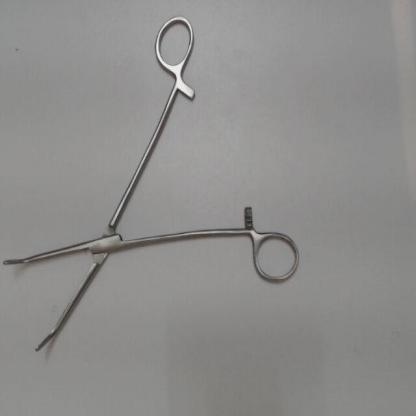Lahey Forceps: (3, 9, 303, 362)
